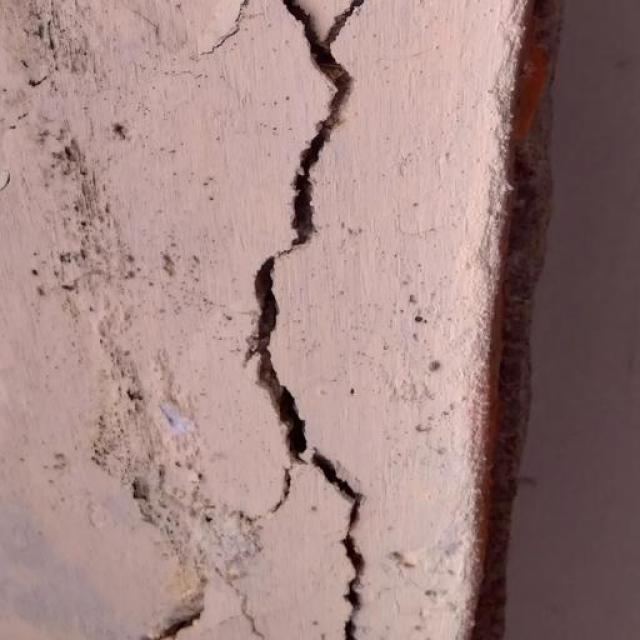crack: (278, 0, 362, 258), (245, 259, 306, 461), (311, 451, 362, 639)
crack_mold_damp_spalling_cor: (278, 0, 362, 258), (245, 259, 306, 461), (311, 451, 362, 639)
